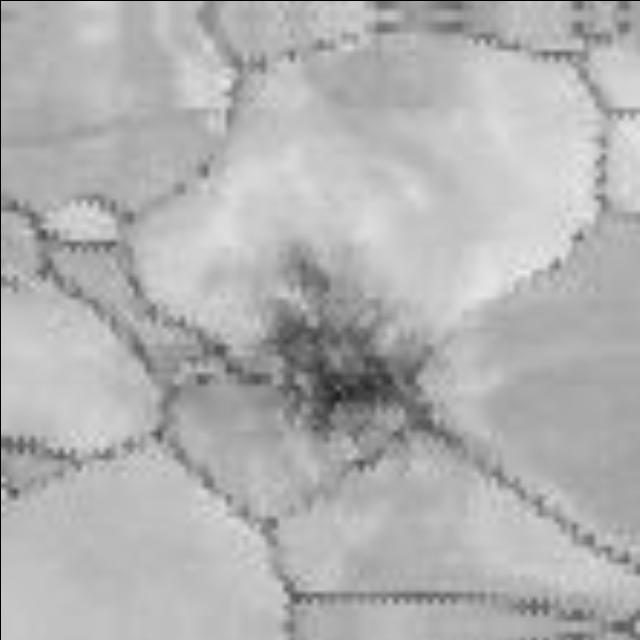good_void: (252, 239, 439, 439)
